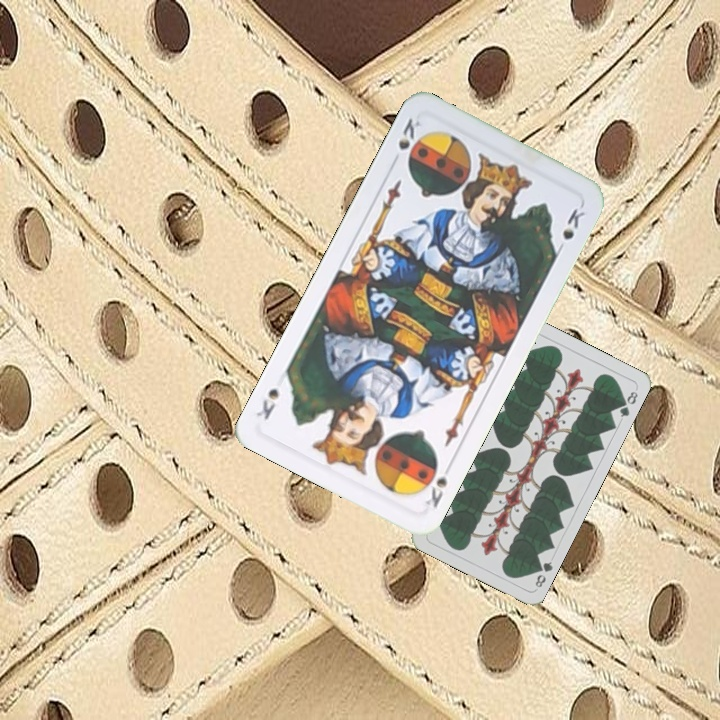G8: (530, 557, 555, 590)
SK: (416, 455, 453, 511), (394, 114, 424, 153)
